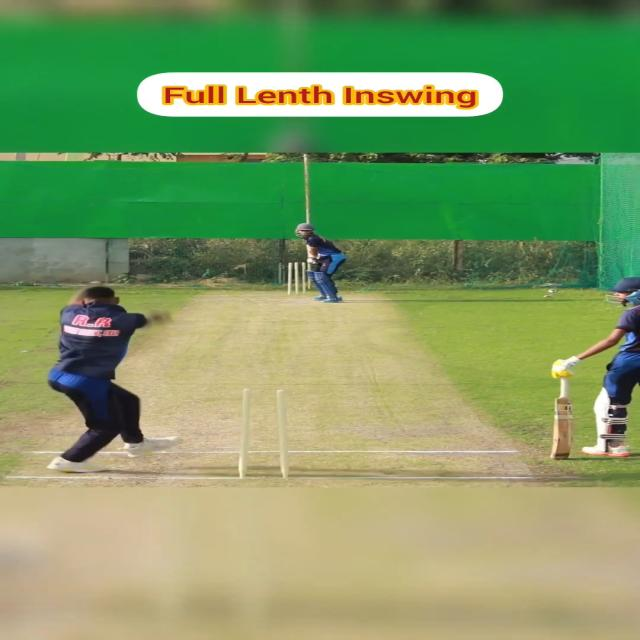stump: (236, 388, 292, 480), (287, 261, 308, 296)
